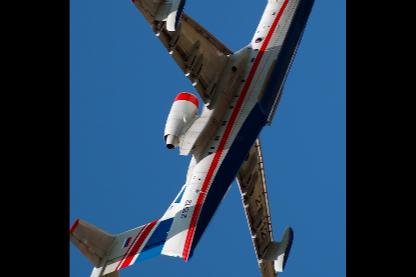B52: (69, 0, 324, 275)
